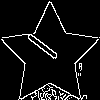I: (25, 30, 68, 68)
